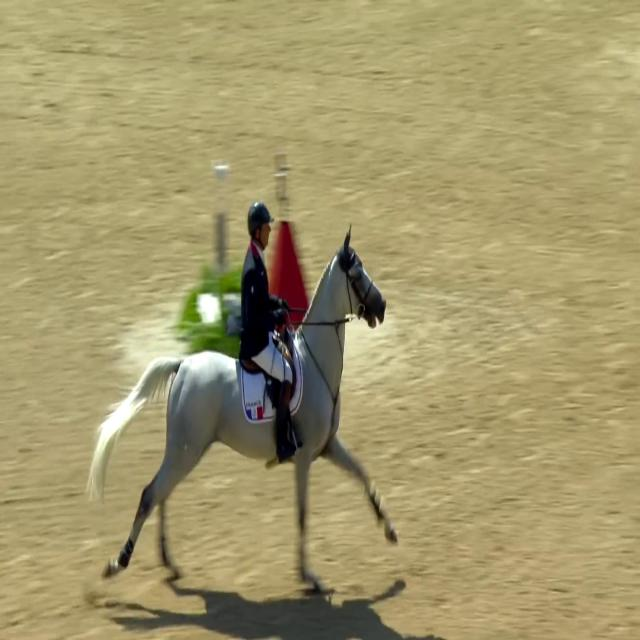Horse Rider: (228, 176, 304, 484)
Horse Running: (82, 220, 403, 592)
